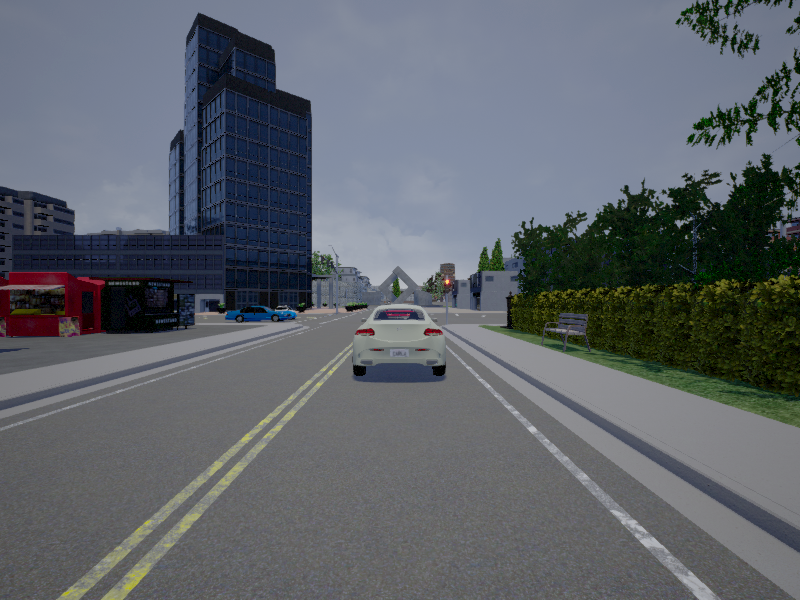Benign: (352, 304, 448, 375), (223, 304, 296, 322)
